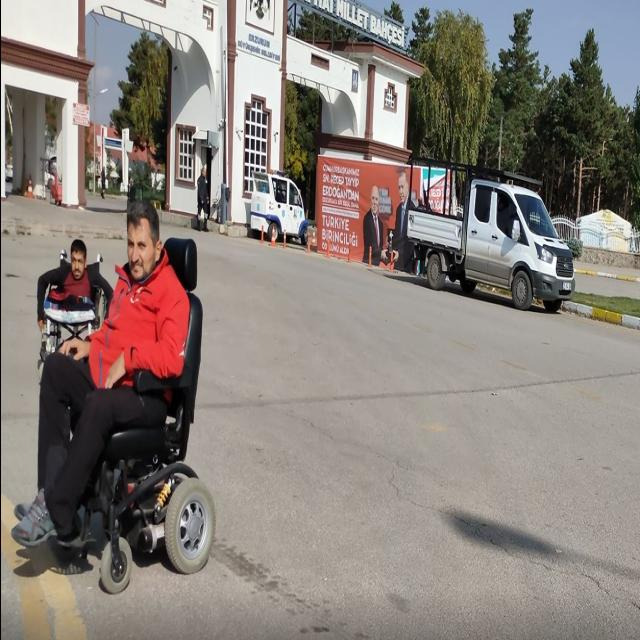wheelchairs: (51, 238, 219, 576), (40, 250, 108, 369)
